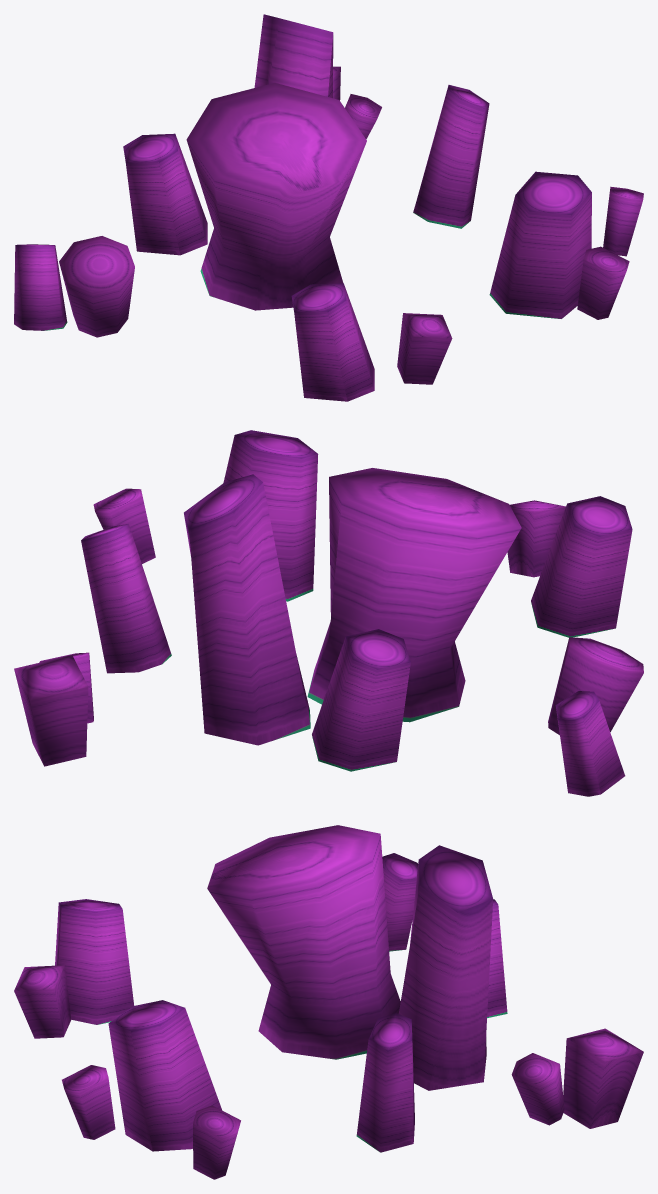
The model's file is PurpleCluster1LOD.fbx.
The picture shows the model from 3 angles, top to bottom: view 1: azimuth 30°, elevation 25°; view 2: azimuth 150°, elevation 25°; view 3: azimuth 270°, elevation 25°; orthographic projection. The views are drawn at different scales.
Visible parts, largest first — view 1: GreenCluster2; view 2: GreenCluster2; view 3: GreenCluster2.
Part boxes in pixels (bbox=[...]): GreenCluster2: bbox=[14, 14, 643, 401]; GreenCluster2: bbox=[14, 430, 643, 796]; GreenCluster2: bbox=[14, 825, 643, 1179].
Bounding box in the file's own units: 85.27 × 33.76 × 82.76.
